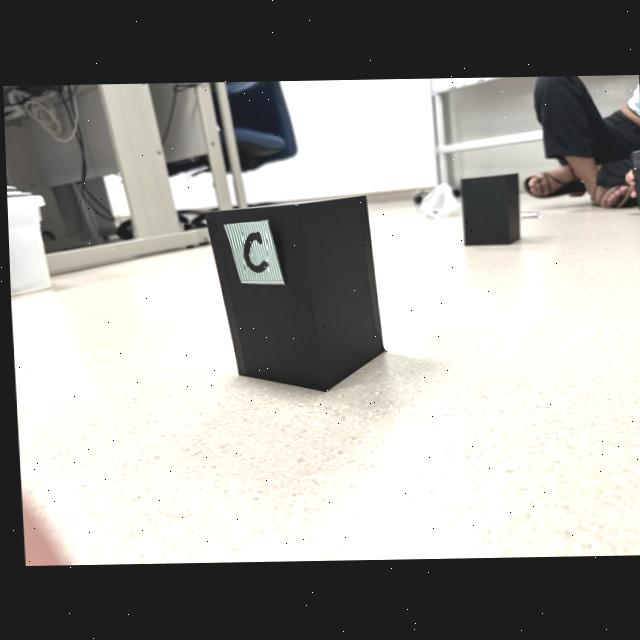C: (241, 231, 266, 272)
